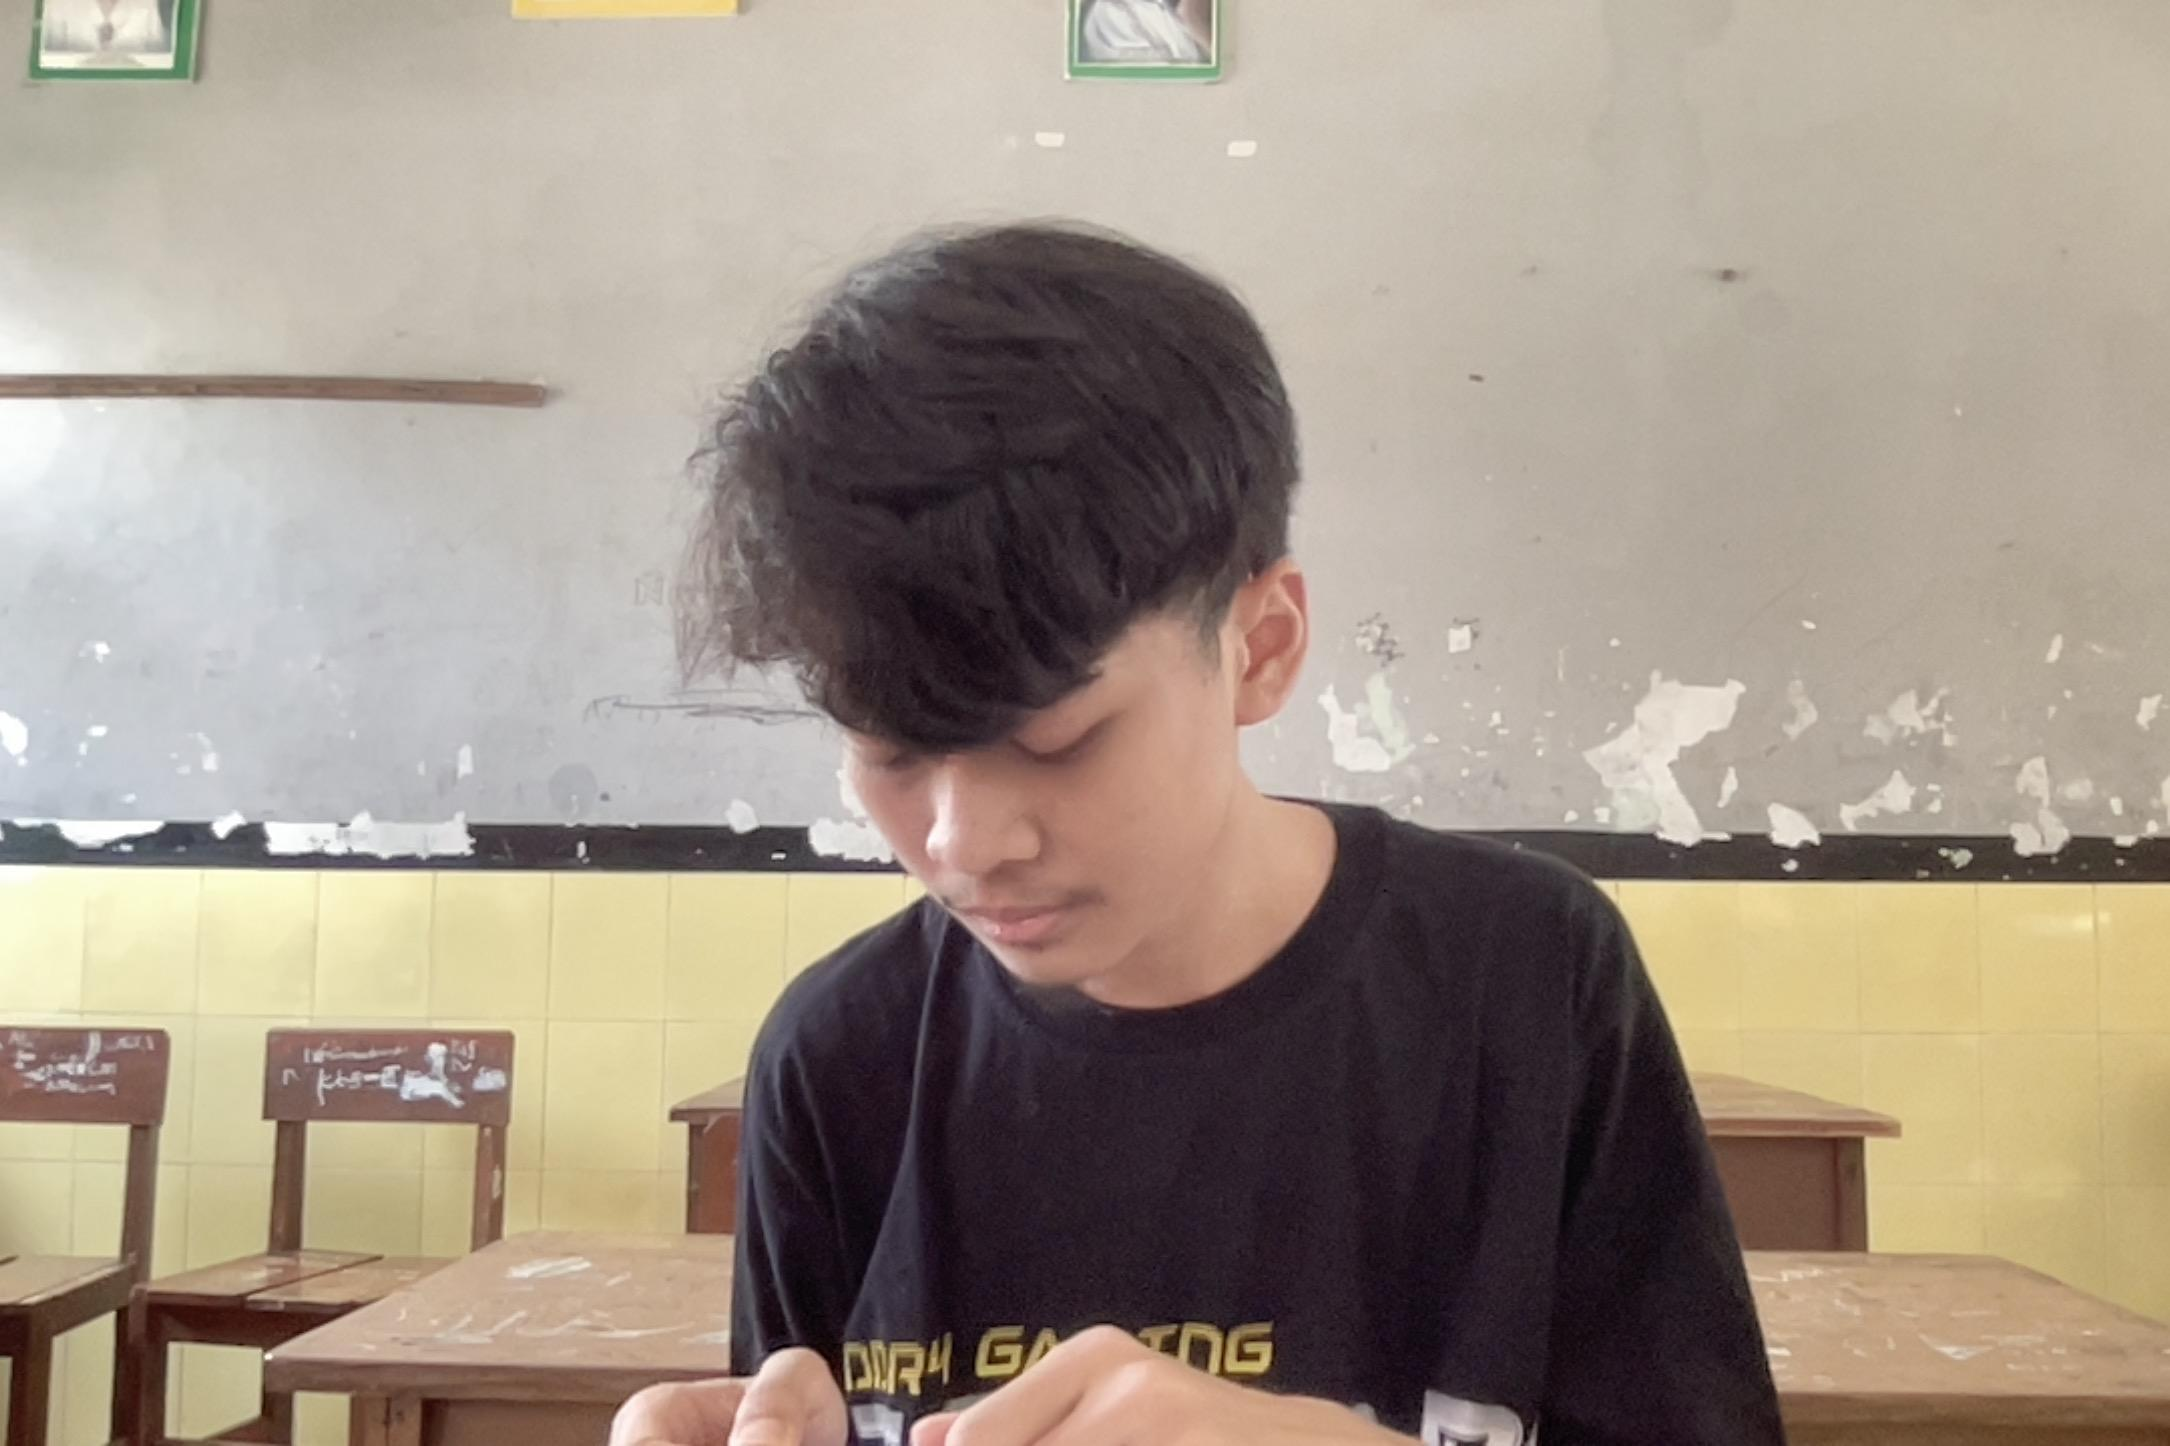good: (521, 165, 1847, 1446)
